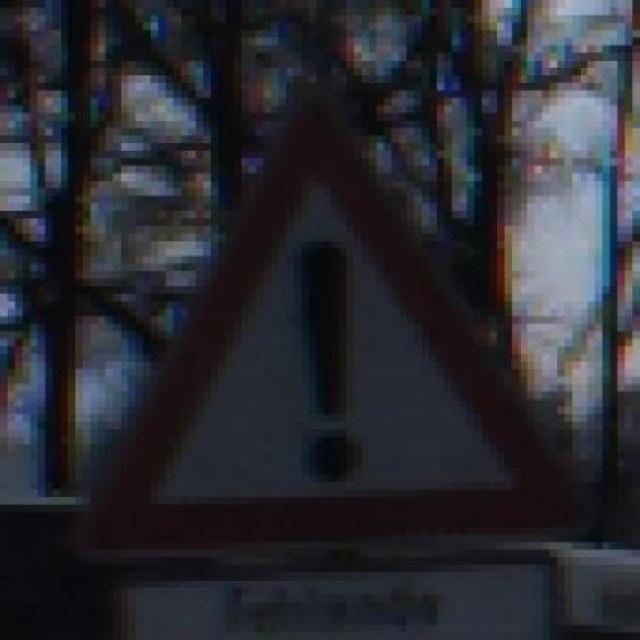Attention Please-: (75, 98, 580, 550)
